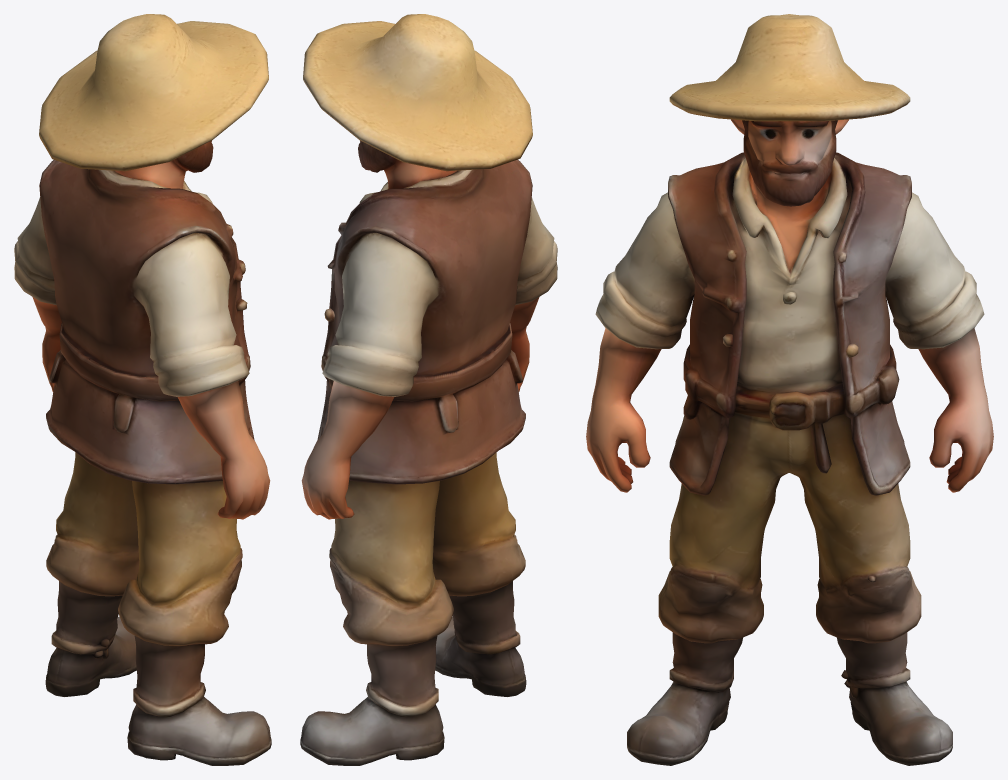
The picture shows the model from 3 angles, left to right: view 1: azimuth 30°, elevation 25°; view 2: azimuth 150°, elevation 25°; view 3: azimuth 270°, elevation 25°; orthographic projection. The views are drawn at different scales.
Parts seen in each view (by area): view 1: tripo_node_3482bb19-597a-4ff7-85e6-b5f36a35fd31; view 2: tripo_node_3482bb19-597a-4ff7-85e6-b5f36a35fd31; view 3: tripo_node_3482bb19-597a-4ff7-85e6-b5f36a35fd31.
Boxes of the visible parts, x1,y1,x2,y2 form: tripo_node_3482bb19-597a-4ff7-85e6-b5f36a35fd31: (14, 14, 271, 765); tripo_node_3482bb19-597a-4ff7-85e6-b5f36a35fd31: (300, 14, 557, 765); tripo_node_3482bb19-597a-4ff7-85e6-b5f36a35fd31: (586, 14, 993, 765).
Size of the model in its own units: 0.3072 by 1 by 0.5068.
Materials: 1 (1 with a texture image).
